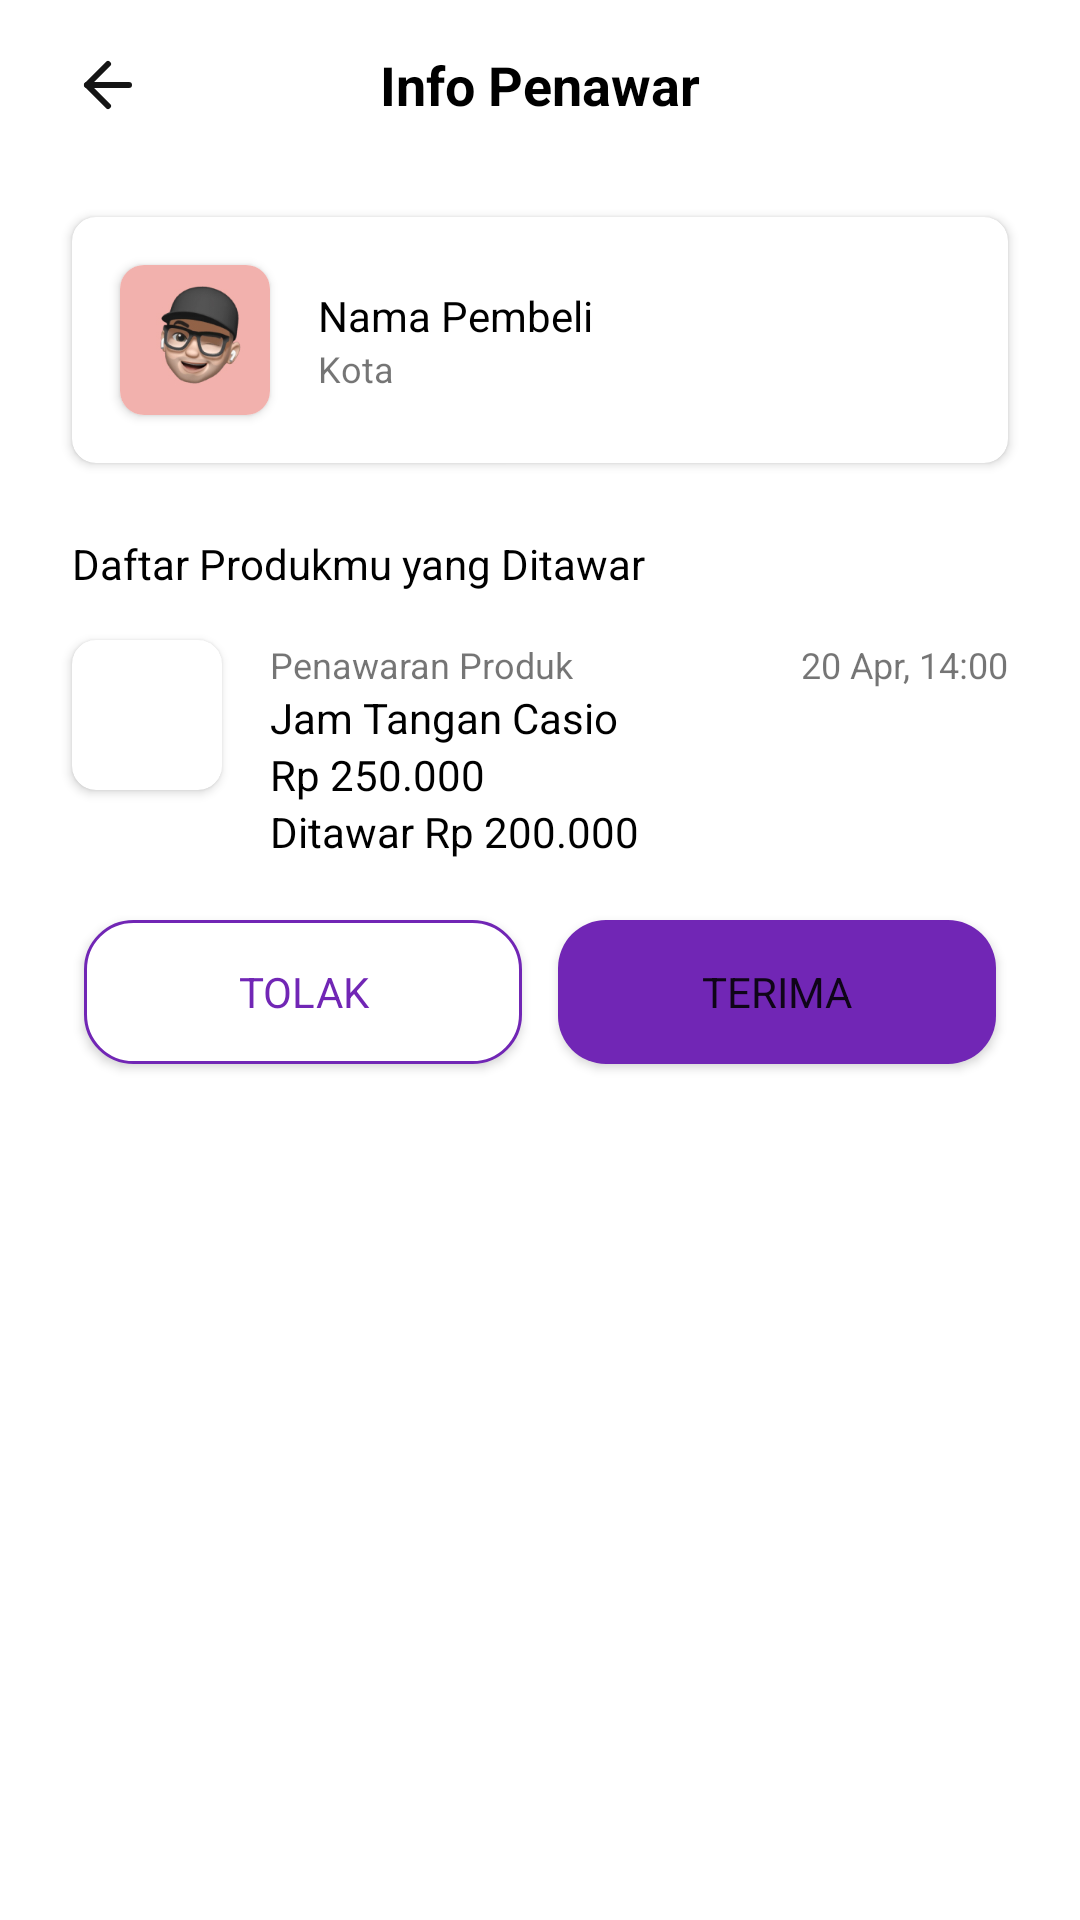

Screen size 1080x1920. Icon name, then its center in pixels as (x,y):
arrow left: (108,85)
